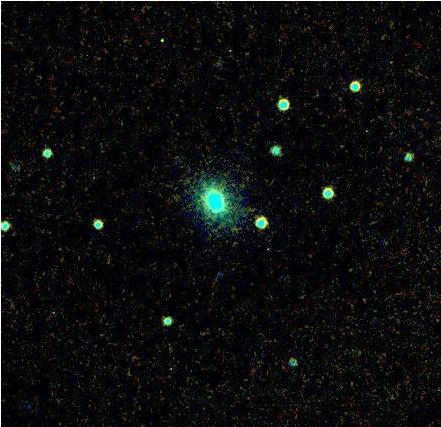star: (144, 26, 174, 56)
